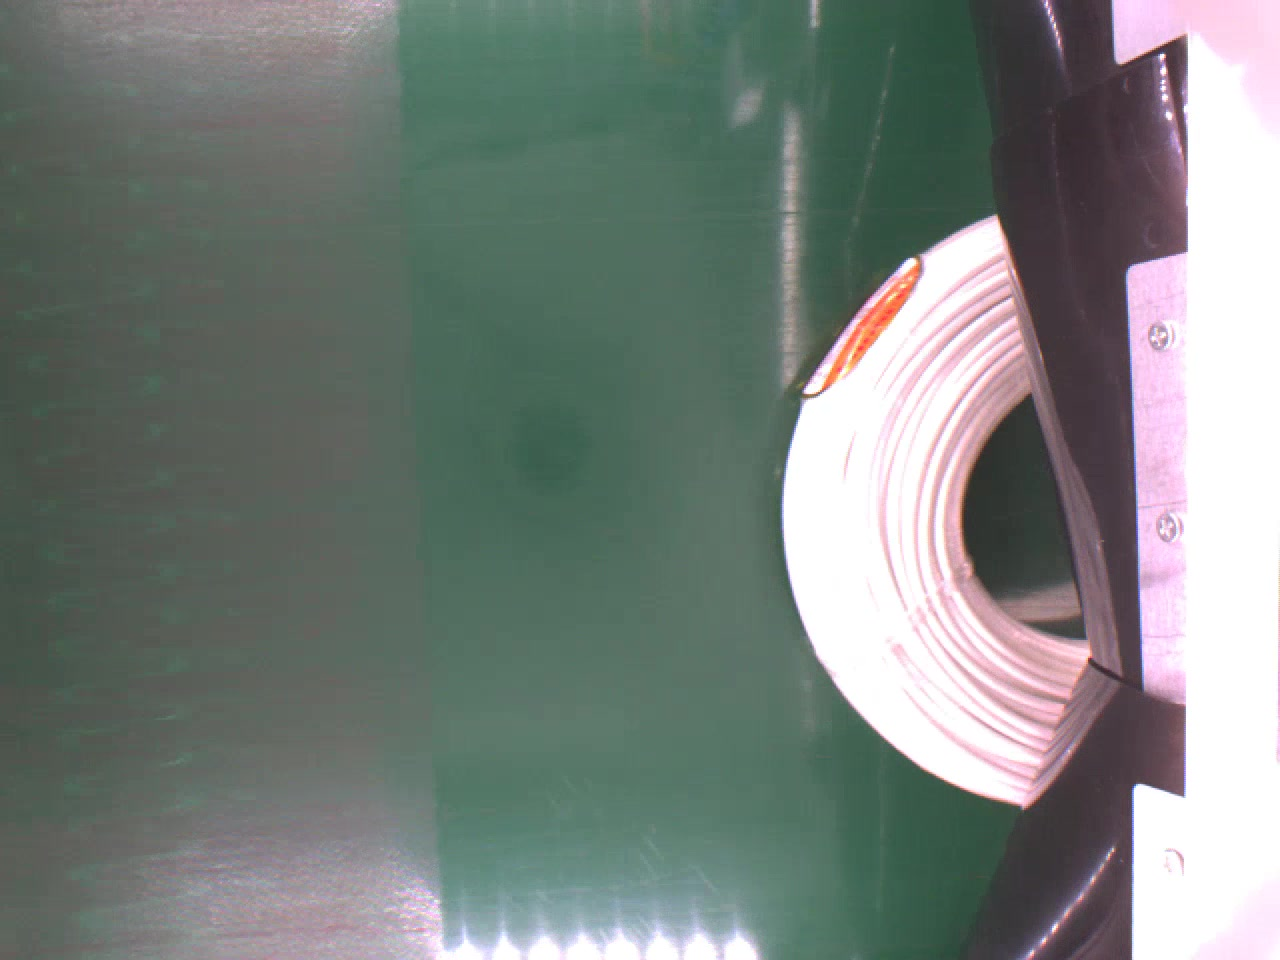white: (777, 211, 1090, 808)
